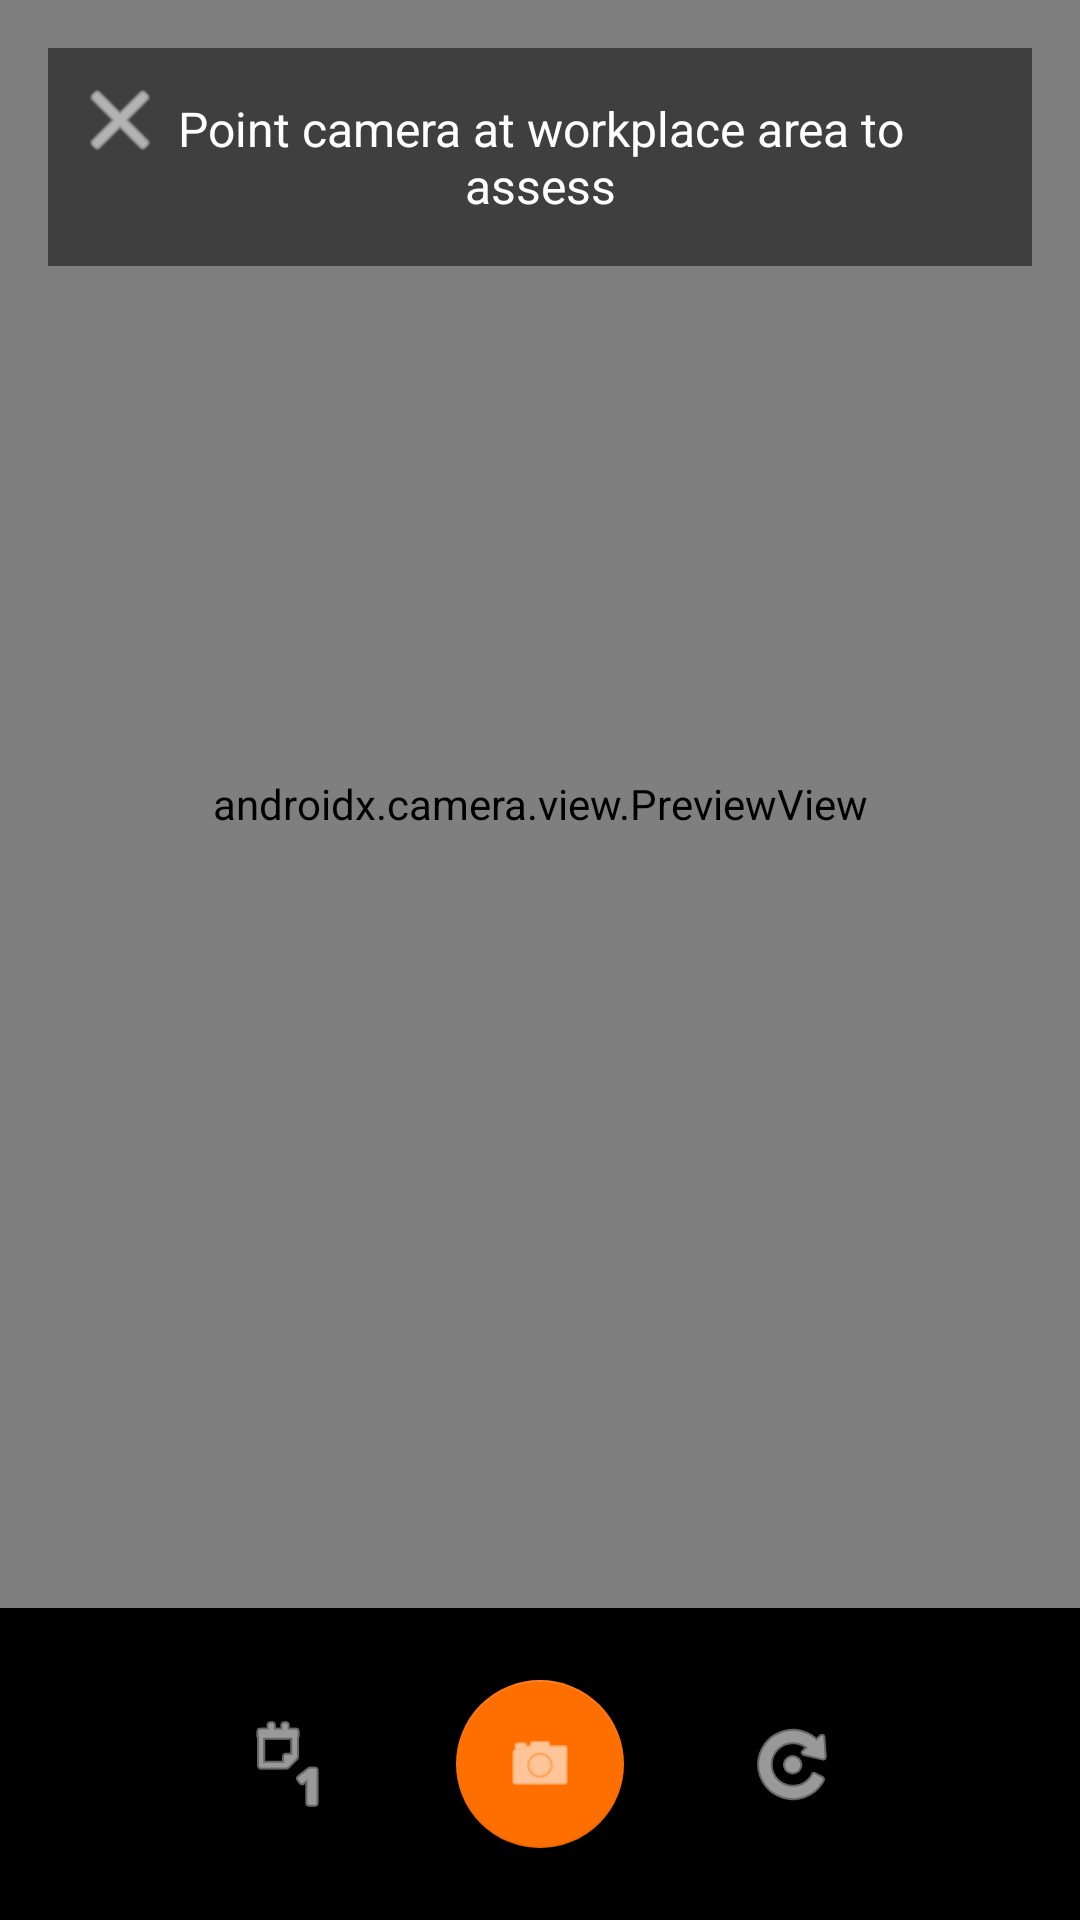

Icon click points for this 1080*1920 phone screenshot, format (x,y):
Capture: (540,1764)
Close: (120,120)
Switch: (792,1764)
